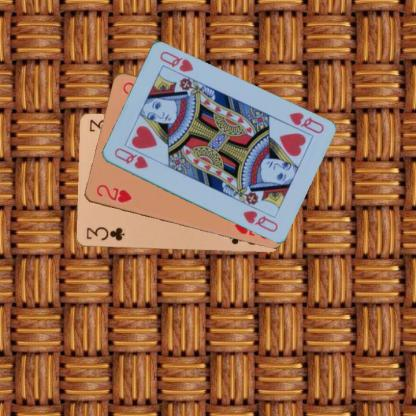2h: (93, 182, 133, 205)
3c: (83, 224, 126, 242)
Qh: (285, 110, 325, 135), (111, 145, 149, 170)
